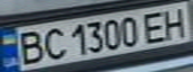0: (118, 14, 142, 47), (103, 16, 124, 51)
1: (66, 20, 87, 56)
3: (84, 18, 106, 53)
B: (9, 28, 48, 66)
C: (39, 25, 69, 61)
E: (136, 9, 172, 44)
H: (157, 5, 193, 39)
